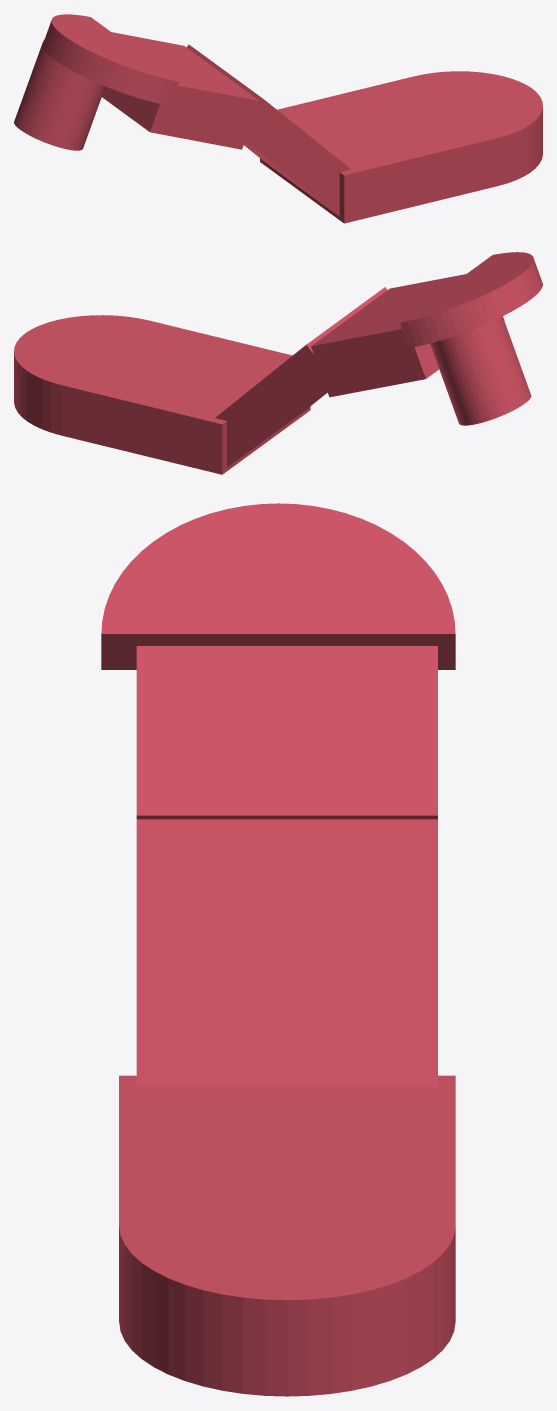
Rendered from shoe.glb.
3 views of the same model, one above another, from view 1: azimuth 30°, elevation 25°; view 2: azimuth 150°, elevation 25°; view 3: azimuth 270°, elevation 25° (orthographic). The views are drawn at different scales.
Visible parts, largest first — view 1: Mesh_Mesh_head_geo.001_lambert2SG.001; view 2: Mesh_Mesh_head_geo.001_lambert2SG.001; view 3: Mesh_Mesh_head_geo.001_lambert2SG.001.
Boxes of the visible parts, x1,y1,x2,y2 form: Mesh_Mesh_head_geo.001_lambert2SG.001: (14, 14, 542, 223); Mesh_Mesh_head_geo.001_lambert2SG.001: (14, 252, 542, 474); Mesh_Mesh_head_geo.001_lambert2SG.001: (101, 503, 455, 1396).
Size of the model in its own units: 0.0644 by 0.0274 by 0.02.
